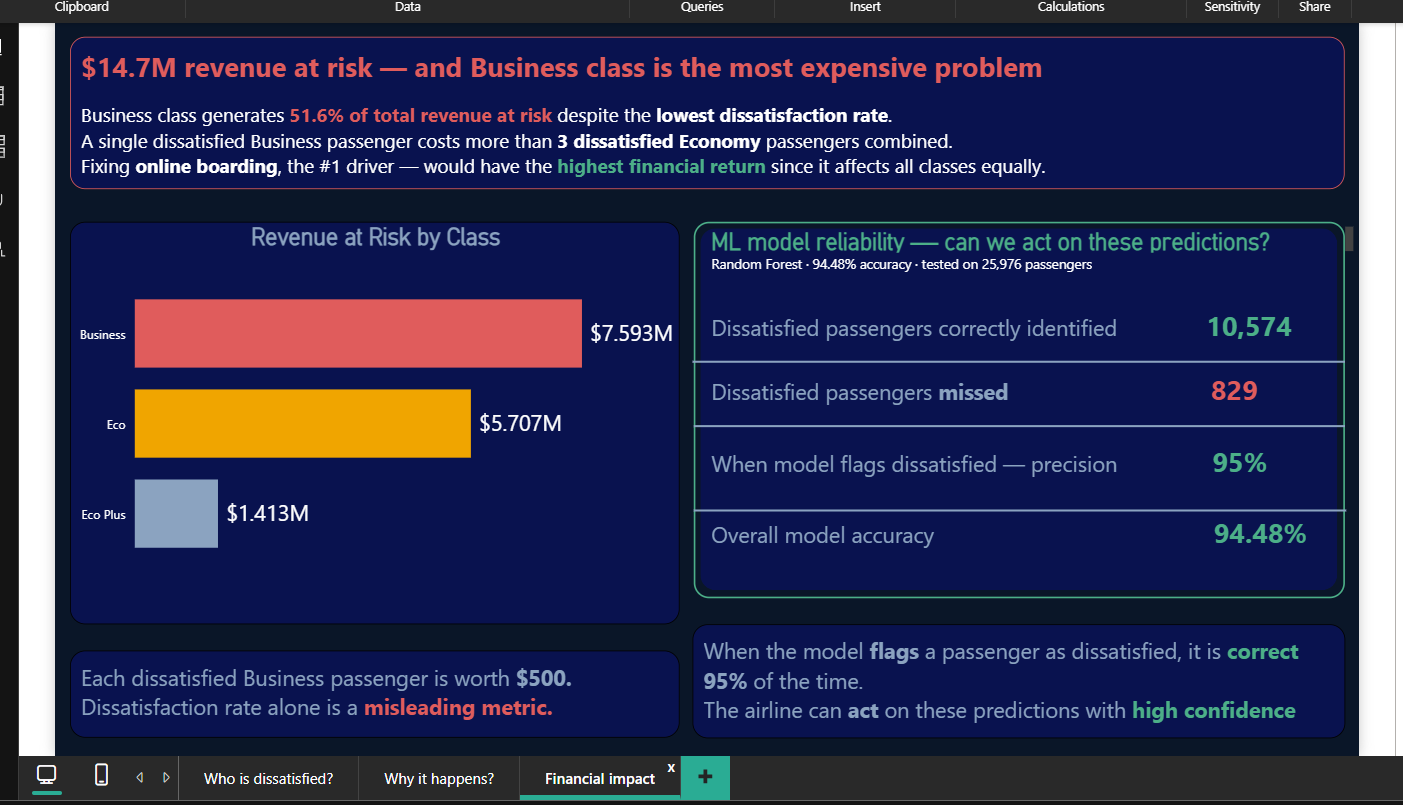

This screenshot's page, from the dashboard's own definition file:
{"tool":"powerbi","page":{"name":"Financial impact","canvas":[1280,720],"ordinal":2},"visuals":[{"type":"shape","box":[627,195.1,639.3,369.3],"z":0},{"type":"clusteredBarChart","title":"Revenue at Risk by Class","fields":{"Y":["cleaned_data.Revenue at Risk"],"Category":["cleaned_data.Class"]},"box":[14.7,195.1,598.8,395.1],"z":1000},{"type":"textbox","box":[14.7,13.5,1251.5,149.7],"z":2000},{"type":"textbox","box":[14.7,616,598.8,85.9],"z":3000},{"type":"textbox","box":[639.3,195.1,640.5,35.6],"z":4000},{"type":"textbox","box":[639.3,222.1,418.4,35.6],"z":5000},{"type":"textbox","box":[639.3,273.6,640.5,47.9],"z":6000},{"type":"textbox","box":[639.3,336.2,640.5,47.9],"z":7000},{"type":"textbox","box":[639.3,407.4,640.5,47.9],"z":8000},{"type":"textbox","box":[639.3,477.3,640.5,47.9],"z":9000},{"type":"shape","box":[625.8,257.7,640.5,149.7],"z":10000},{"type":"shape","box":[627,403.7,640.5,149.7],"z":11000},{"type":"shape","box":[627,359.5,639.3,72.4],"z":12000},{"type":"textbox","box":[625.8,590.2,640.5,111.7],"z":13000}]}

Visuals, with their boxes on the page's 1280x720 design canvas (x1, y1, x2, y2). These are canvas units, not pixel positions in the 1403x805 screenshot, which may show the page scaled, cropped or inside an application window:
shape: rect(627, 195, 1266, 564)
"Revenue at Risk by Class" clusteredBarChart: rect(15, 195, 614, 590)
textbox: rect(15, 14, 1266, 163)
textbox: rect(15, 616, 614, 702)
textbox: rect(639, 195, 1280, 231)
textbox: rect(639, 222, 1058, 258)
textbox: rect(639, 274, 1280, 322)
textbox: rect(639, 336, 1280, 384)
textbox: rect(639, 407, 1280, 455)
textbox: rect(639, 477, 1280, 525)
shape: rect(626, 258, 1266, 407)
shape: rect(627, 404, 1268, 553)
shape: rect(627, 360, 1266, 432)
textbox: rect(626, 590, 1266, 702)
